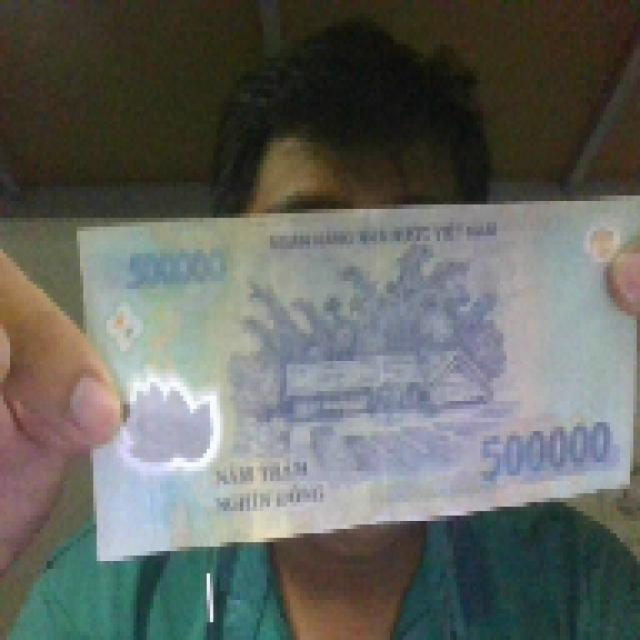500 000 VND: (70, 186, 637, 564)
